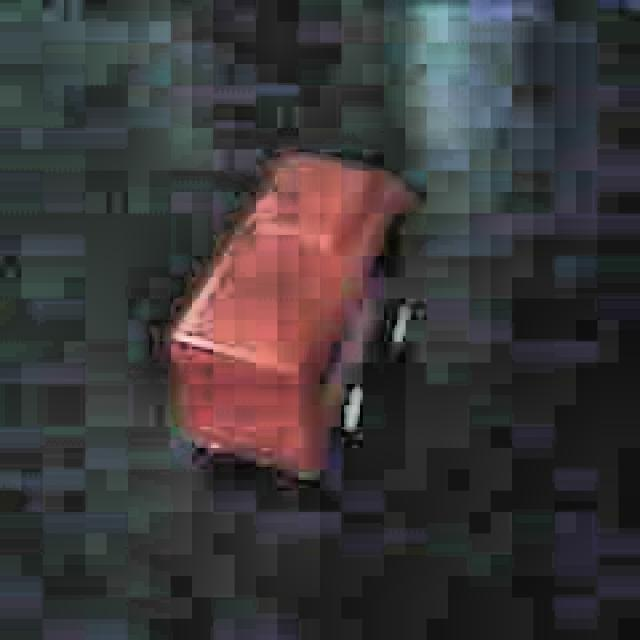bus: (154, 138, 420, 486)
